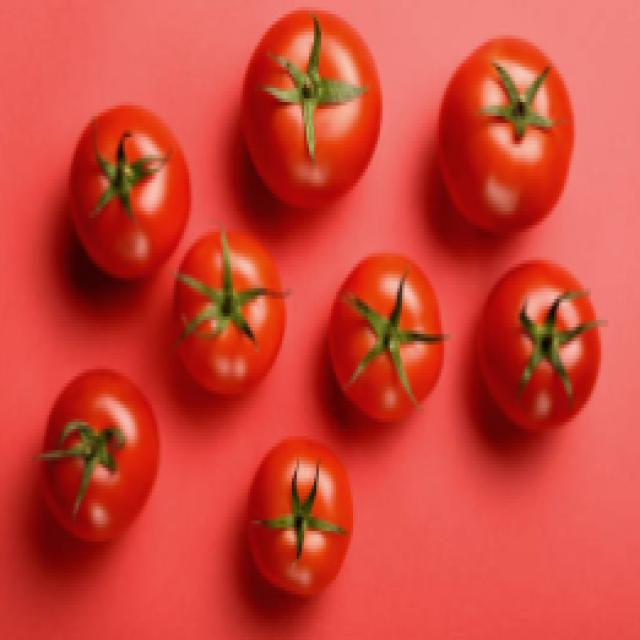Tomato: (234, 6, 378, 206), (444, 8, 565, 235), (484, 245, 605, 453), (42, 350, 158, 550), (68, 96, 185, 290), (166, 222, 284, 409), (324, 233, 436, 423), (240, 430, 356, 607)
